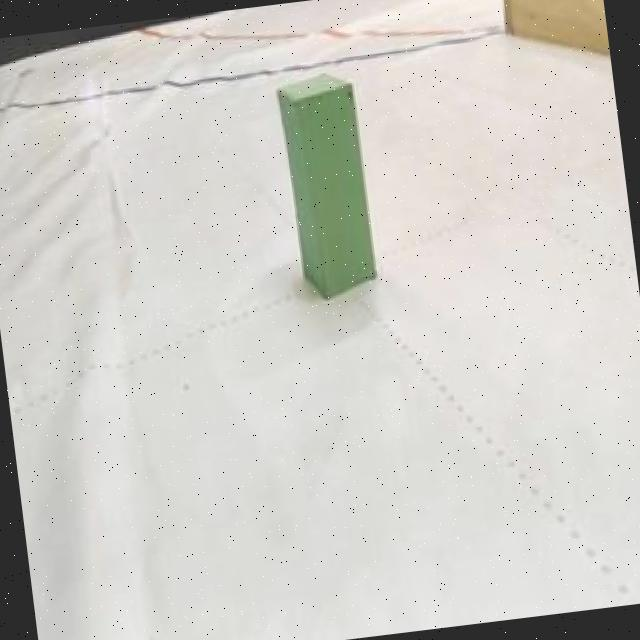greenbox: (269, 69, 376, 298)
